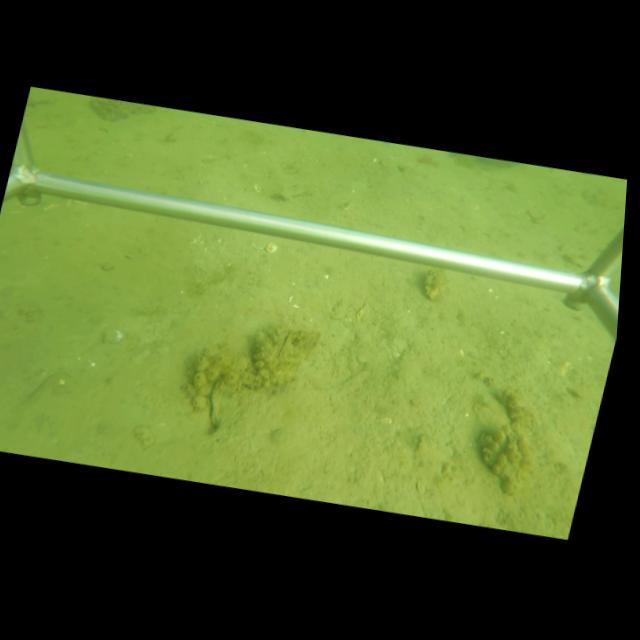Oyster-Indeterminate: (422, 269, 447, 302)
Oyster-Open: (203, 376, 241, 433)
